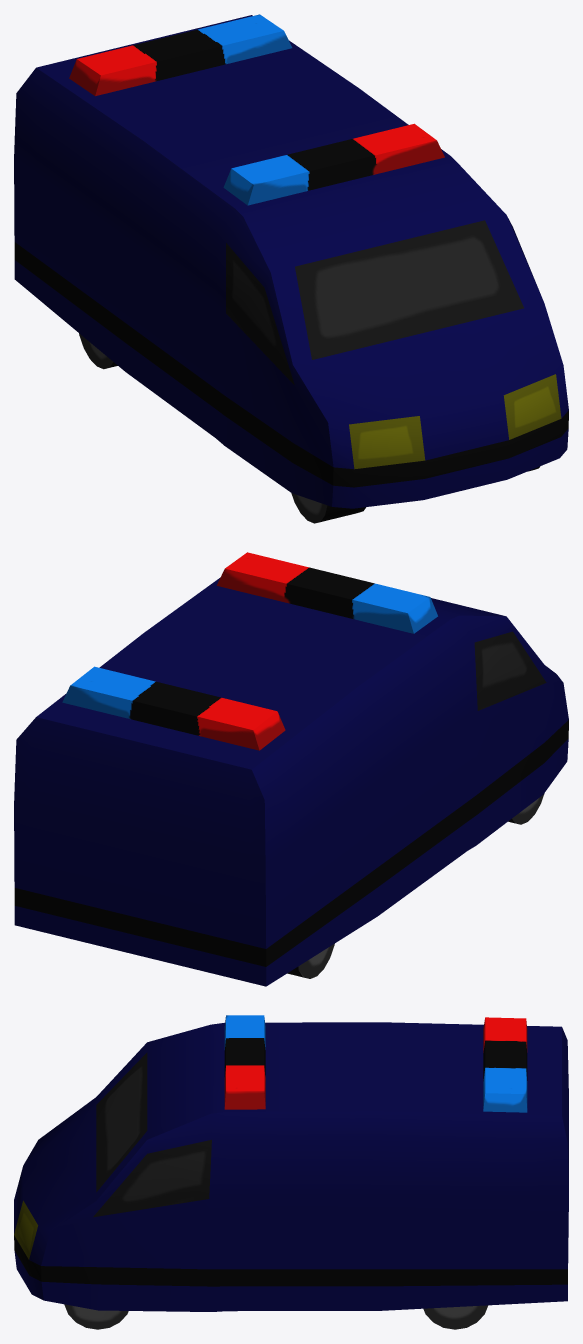
File: Ban.FBX
3 views of the same model, one above another, from view 1: azimuth 30°, elevation 25°; view 2: azimuth 150°, elevation 25°; view 3: azimuth 270°, elevation 25° (orthographic). The views are drawn at different scales.
Visible parts, largest first — view 1: Furgon; view 2: Furgon; view 3: Furgon.
Part boxes in pixels (bbox=[...]): Furgon: bbox=[14, 14, 568, 523]; Furgon: bbox=[14, 552, 568, 986]; Furgon: bbox=[14, 1015, 568, 1329].
Bounding box in the file's own units: 220 × 230 × 496.
